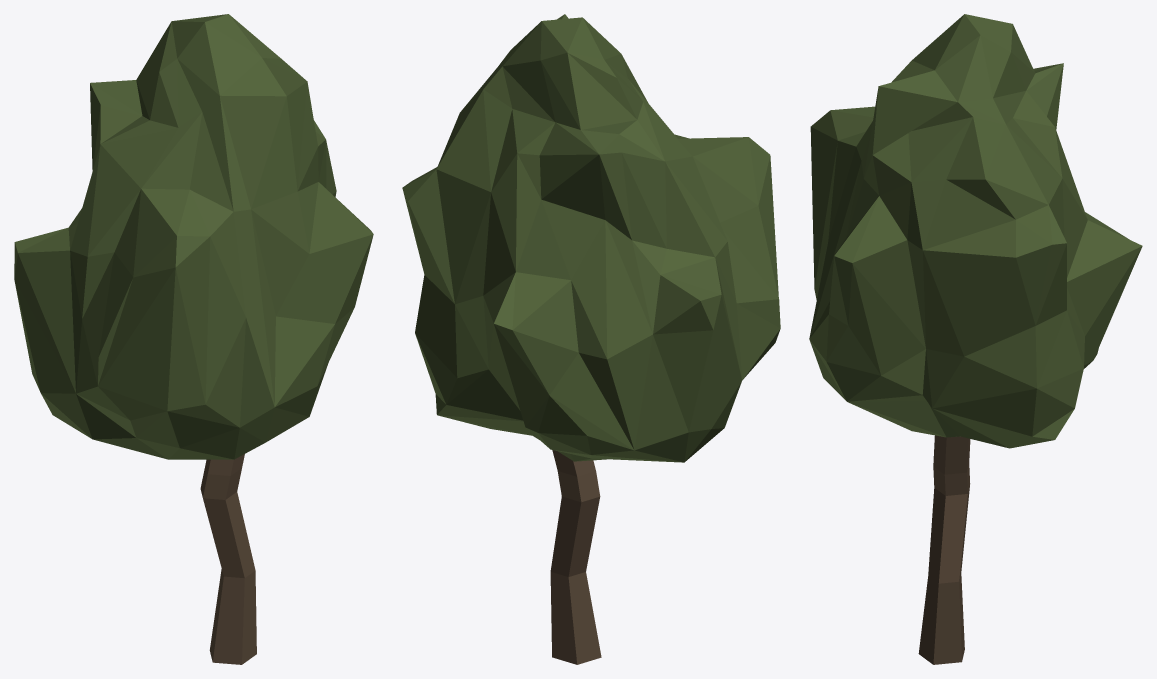
The model's file is Tree_098.fbx.
3 renders of one model, left to right at view 1: azimuth 30°, elevation 25°; view 2: azimuth 150°, elevation 25°; view 3: azimuth 270°, elevation 25°, orthographic. The views are drawn at different scales.
Visible parts, largest first — view 1: Tree_098; view 2: Tree_098; view 3: Tree_098.
Boxes of the visible parts, x1,y1,x2,y2 form: Tree_098: [14, 14, 373, 664]; Tree_098: [402, 14, 780, 664]; Tree_098: [809, 14, 1142, 664].
Bounding box in the file's own units: 0.5343 × 1.07 × 0.51.
1 material, 1 textured.
